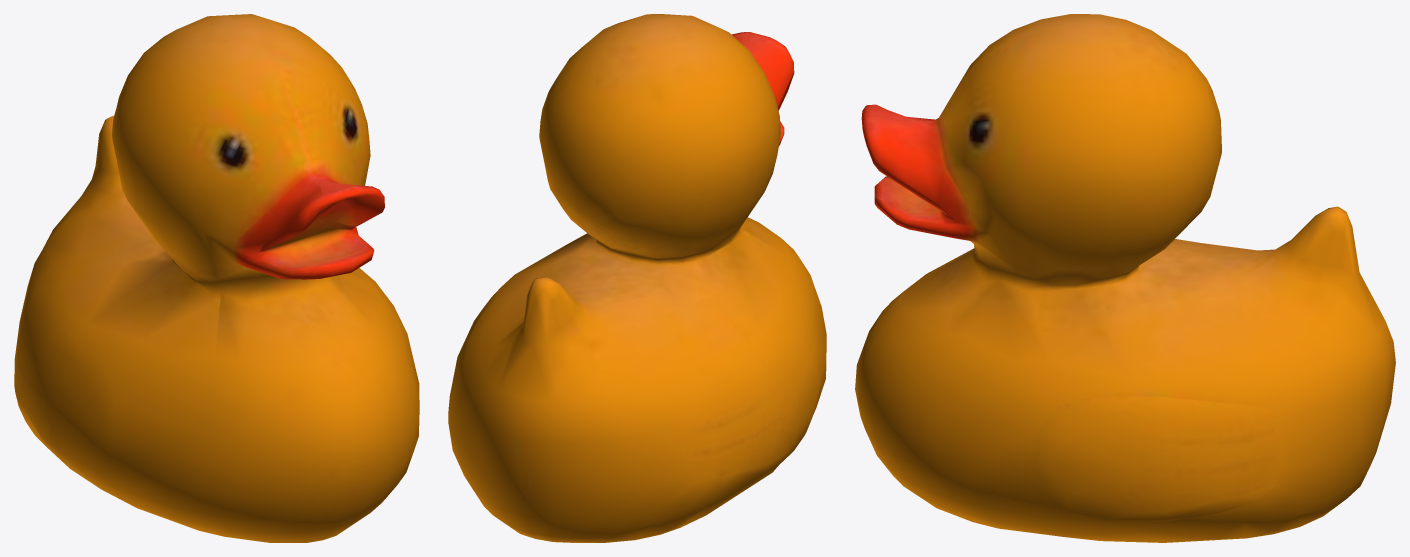
File: rubber_duck_toy.glb
3 renders of one model, left to right at view 1: azimuth 30°, elevation 25°; view 2: azimuth 150°, elevation 25°; view 3: azimuth 270°, elevation 25°, orthographic. The views are drawn at different scales.
Parts seen in each view (by area): view 1: rubber_duck_toy; view 2: rubber_duck_toy; view 3: rubber_duck_toy.
Part boxes in pixels (bbox=[...]): rubber_duck_toy: bbox=[14, 14, 419, 542]; rubber_duck_toy: bbox=[448, 14, 826, 542]; rubber_duck_toy: bbox=[855, 14, 1395, 542].
Bounding box in the file's own units: 0.2135 × 0.2855 × 0.3.
Materials: 1 (1 with a texture image).
